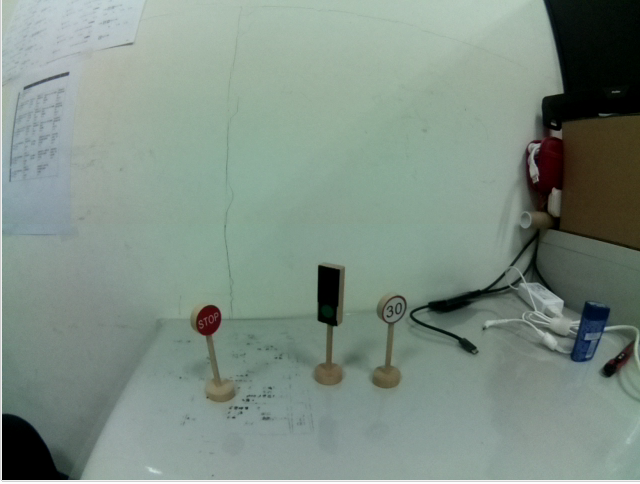Green: (312, 261, 351, 328)
Speed30: (376, 289, 409, 328)
Stop: (186, 299, 223, 339)
